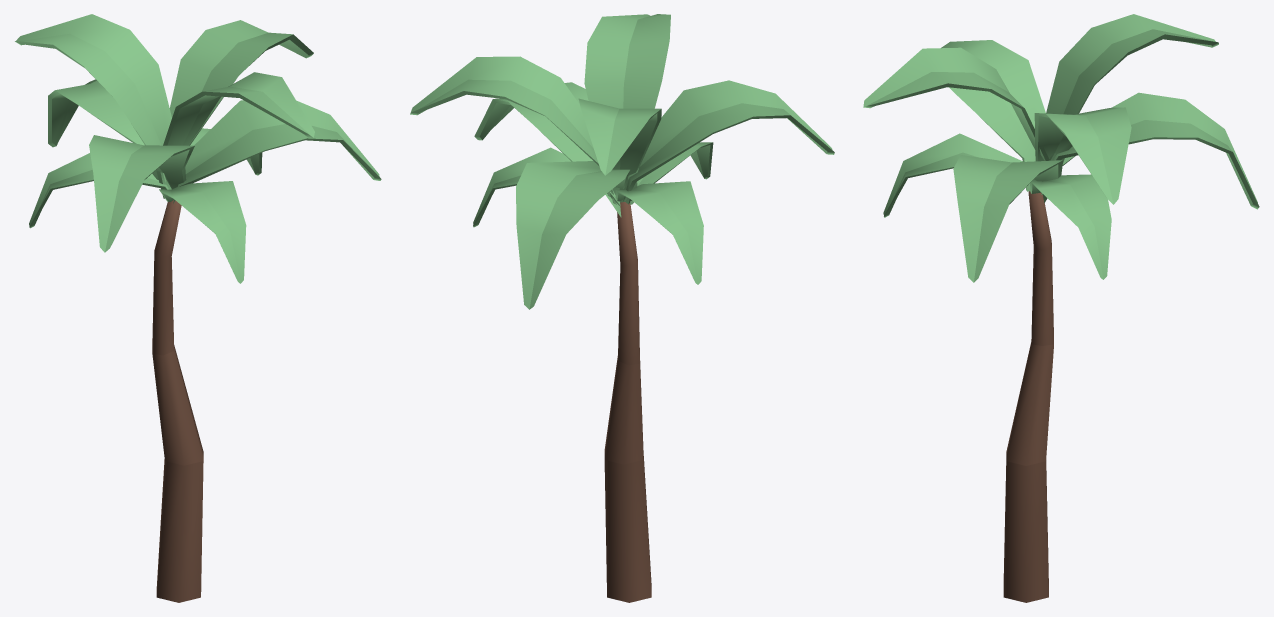
The model's file is tree.fbx.
3 renders of one model, left to right at view 1: azimuth 30°, elevation 25°; view 2: azimuth 150°, elevation 25°; view 3: azimuth 270°, elevation 25°, orthographic. The views are drawn at different scales.
Parts seen in each view (by area): view 1: PalmTree01; view 2: PalmTree01; view 3: PalmTree01.
Part boxes in pixels (x1=…): PalmTree01: x1=15, y1=14, x2=381, y2=602; PalmTree01: x1=410, y1=14, x2=834, y2=602; PalmTree01: x1=863, y1=14, x2=1259, y2=602.
Bounding box in the file's own units: 387 × 619 × 406.
